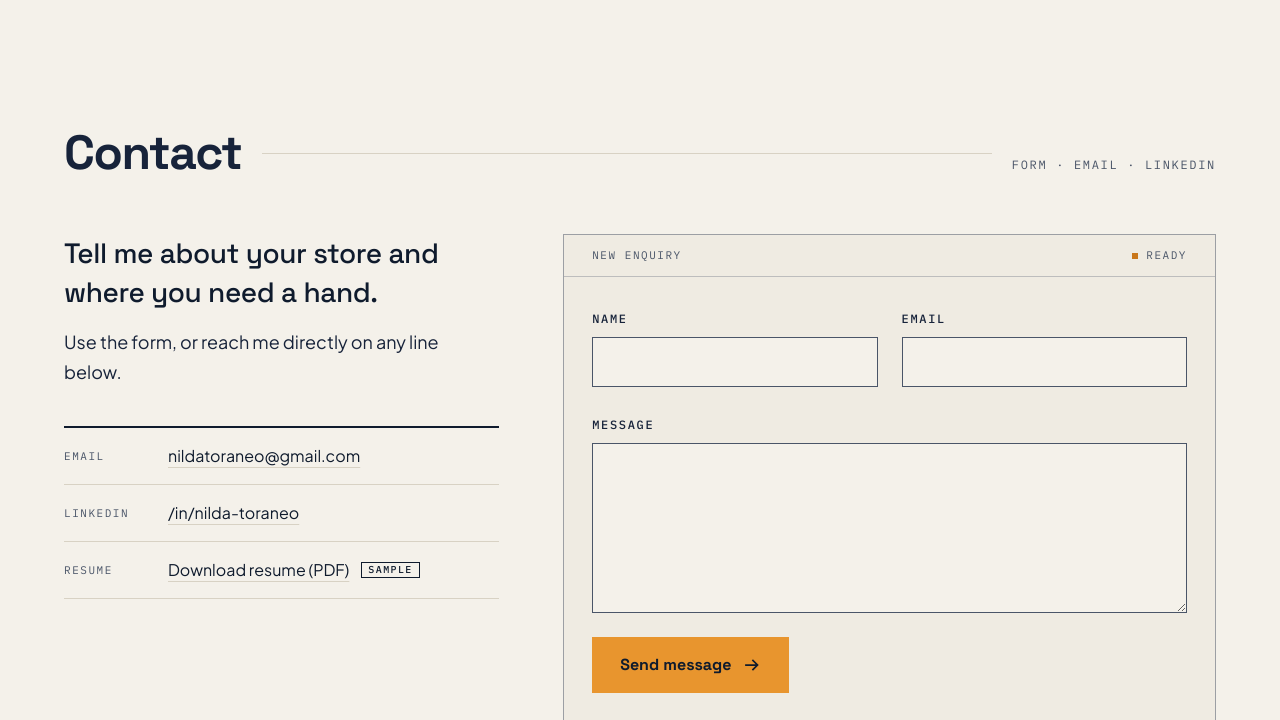
Scenario: Contact › shows the error and restores the typed values on Try again
Type "Ana Reyes" into the field labelled "Name". click: (735, 362)
box: [592,337,878,387]
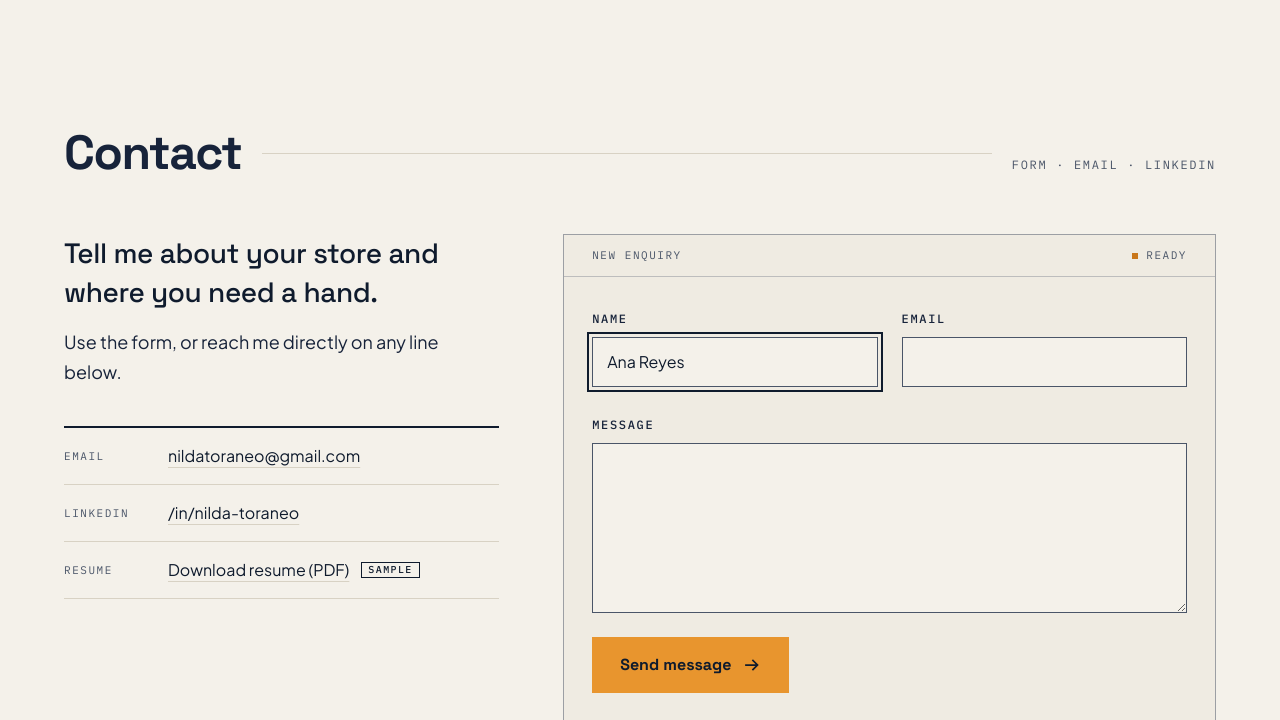
Type "ana@example.com" into the field labelled "Email". click: (1044, 362)
box: [902,337,1187,387]
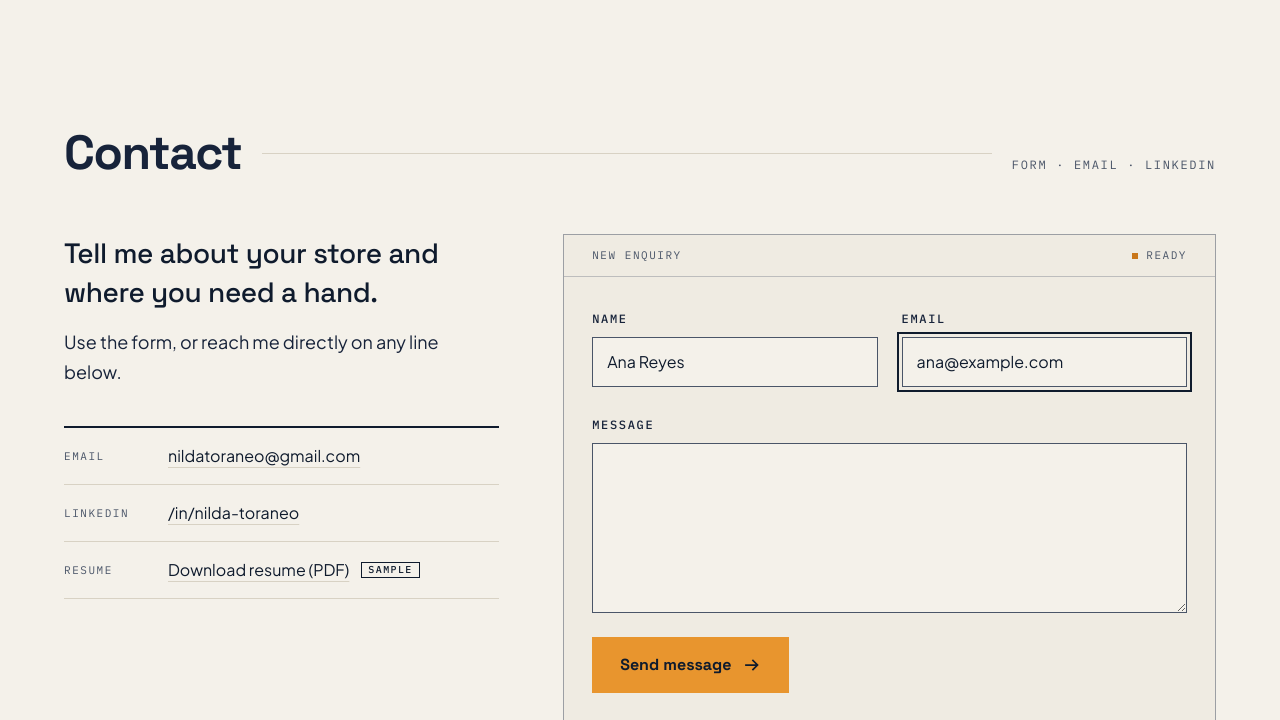
Type "I need help with my PPC." into the text box labelled "Message". click: (890, 528)
box: [592,443,1187,613]
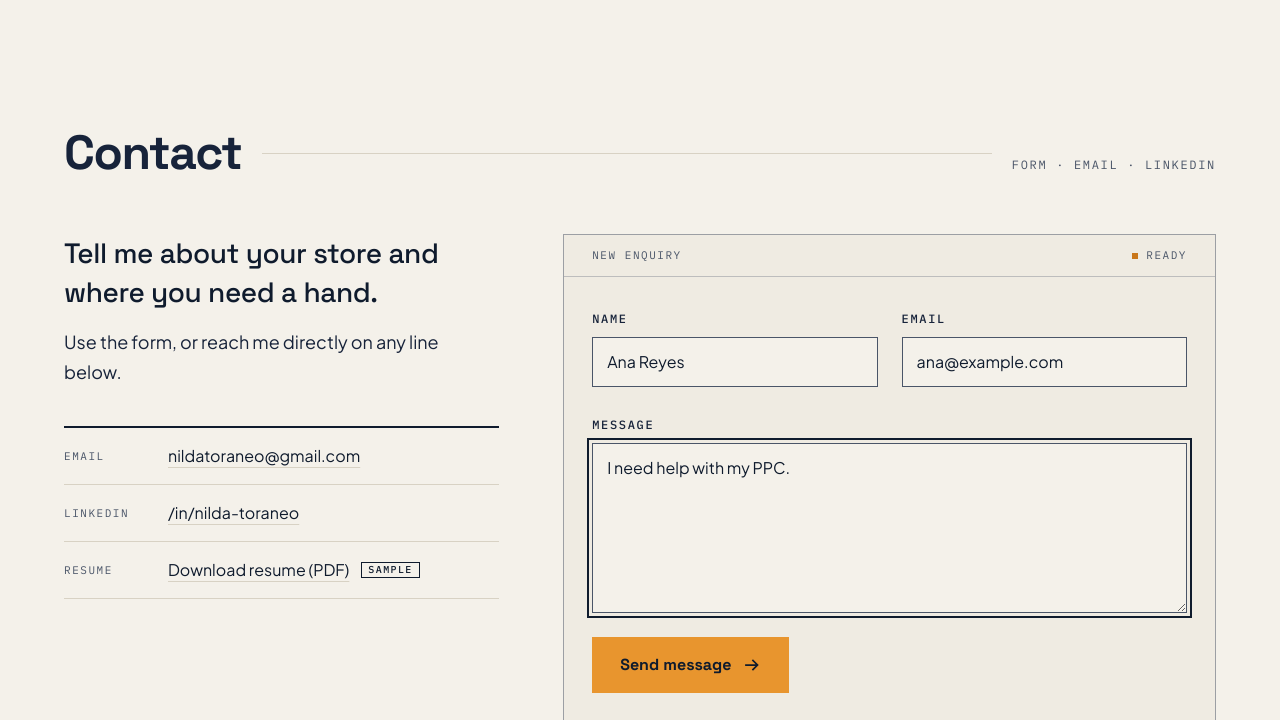
Click the button "Send message". click: (691, 665)
box: [592,637,789,693]
(page scrolled)
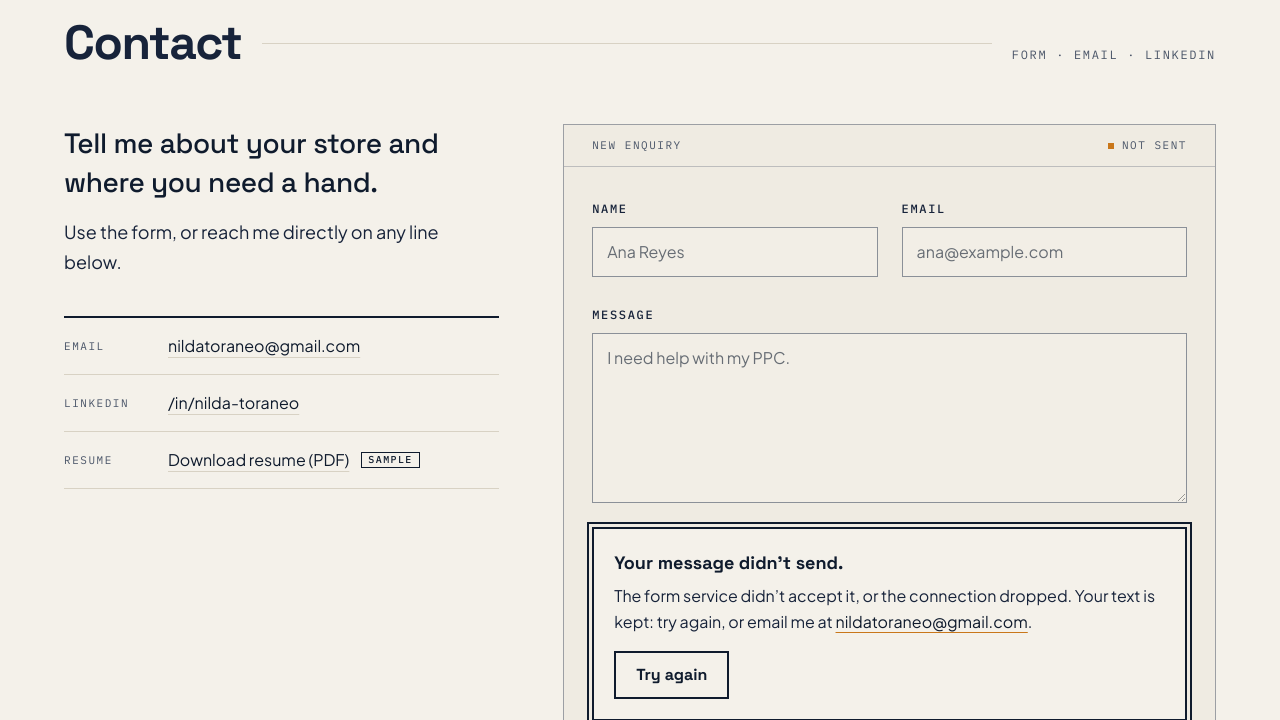
Now the message shows "Your message didn’t send", box [614,551,843,574]
Click the button "Try again". click: (672, 675)
box: [614,651,729,699]
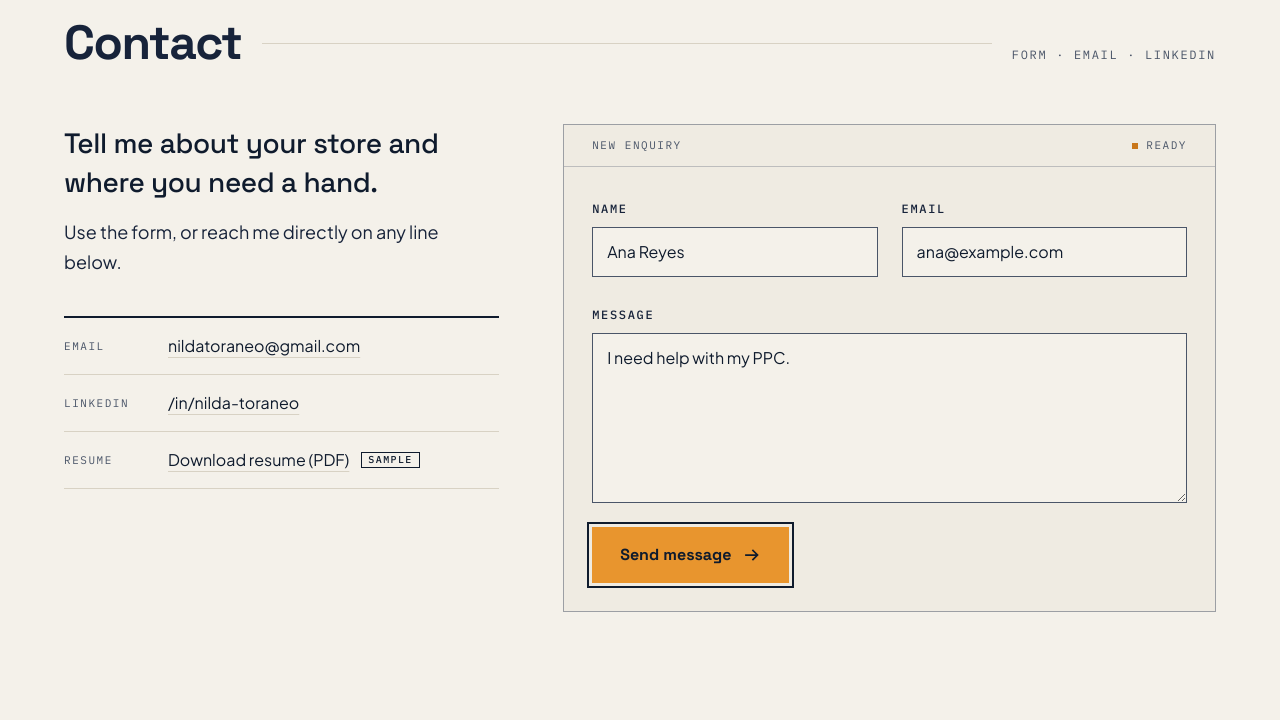
Now the button "Send message" is enabled, box [592,527,789,583]
